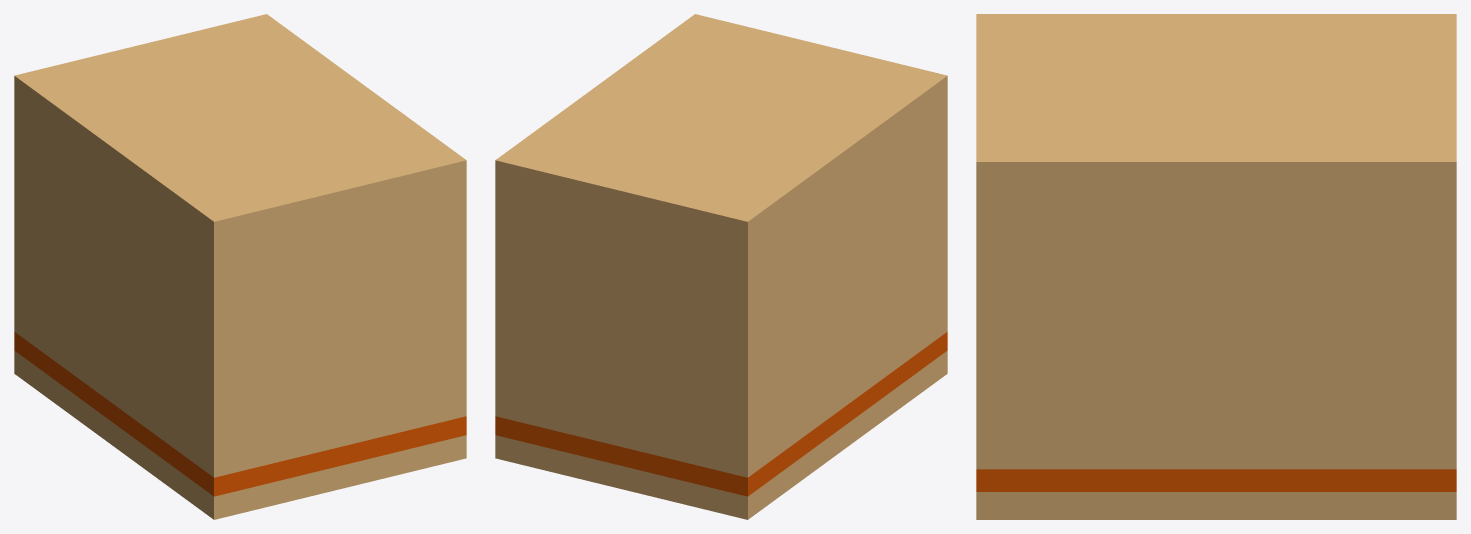
The picture shows the model from 3 angles, left to right: view 1: azimuth 30°, elevation 25°; view 2: azimuth 150°, elevation 25°; view 3: azimuth 270°, elevation 25°; orthographic projection. The views are drawn at different scales.
Visible parts, largest first — view 1: 立方体.104; view 2: 立方体.104; view 3: 立方体.104.
Part boxes in pixels (x1,y1,x2,y2): 立方体.104: (14,14,466,519); 立方体.104: (495,14,947,519); 立方体.104: (976,14,1456,519).
Bounding box in the file's own units: 578 × 421 × 475.
